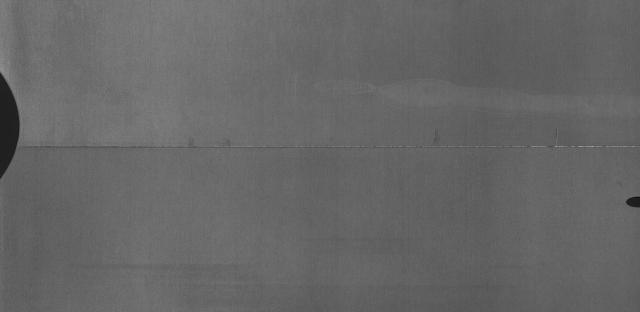punching_hole: (616, 193, 640, 212)
welding_line: (12, 138, 640, 164)
